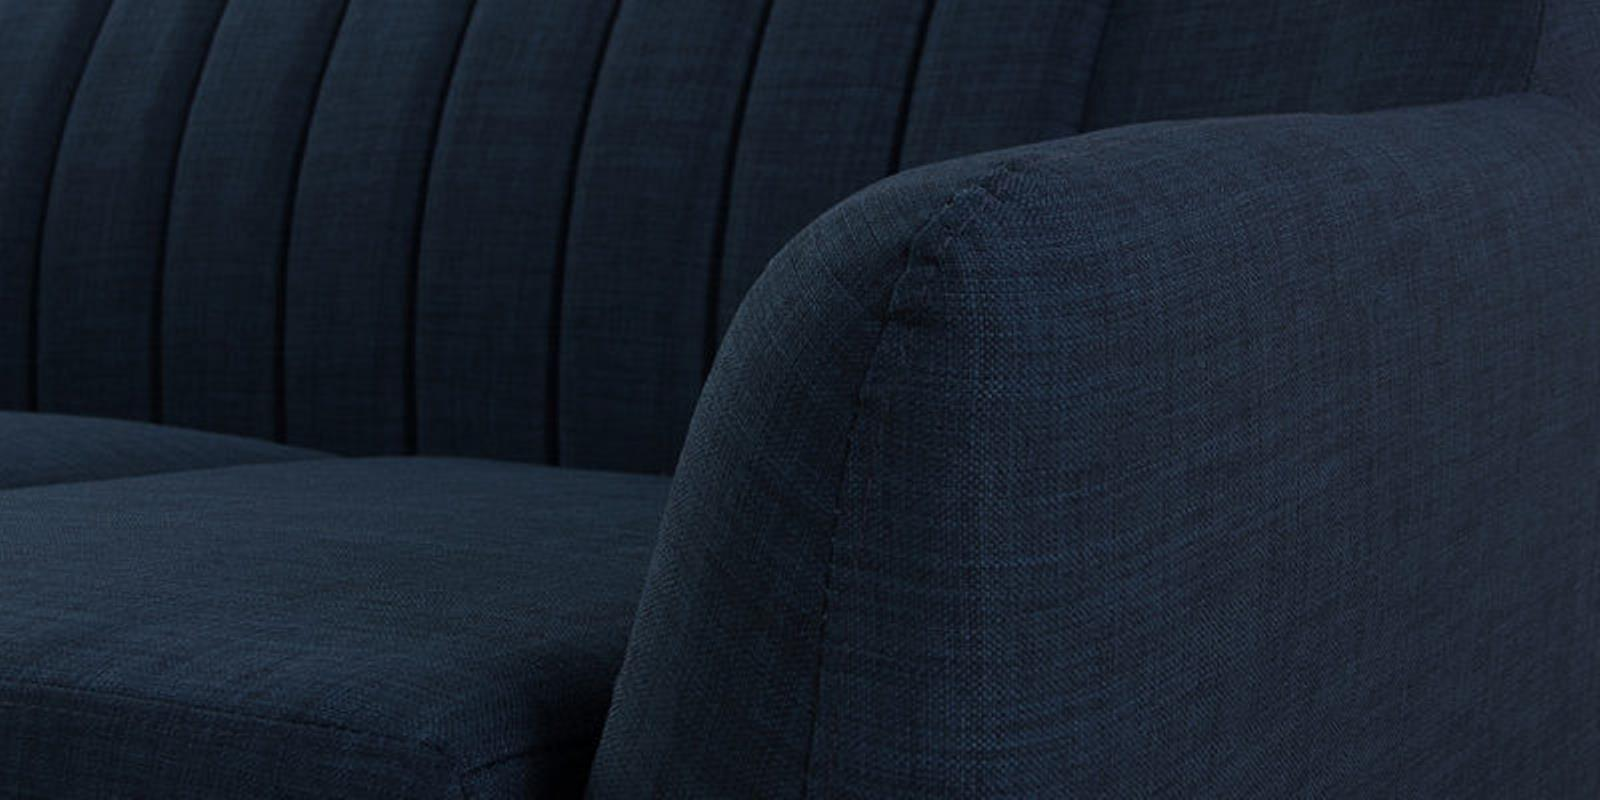Managua Three Seater Sofa in Blue Colour by CasaCraft: (2, 1, 1597, 800)
